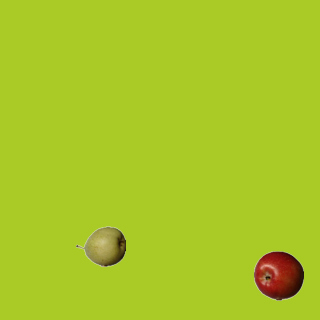Apple Braeburn: (253, 250, 303, 300)
Pear: (75, 221, 125, 271)
